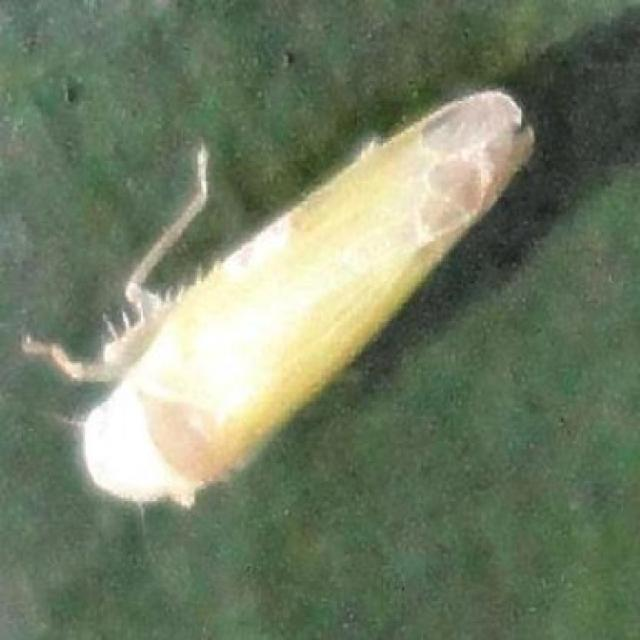green-leafhopper: (16, 85, 536, 506)
